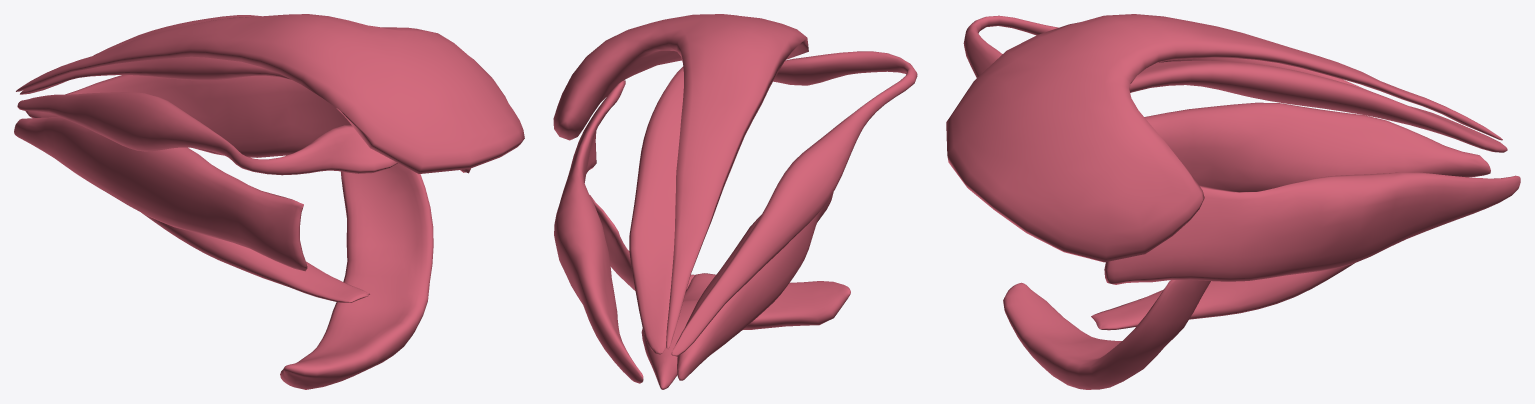
The model's file is VH_F_Muscles_Eye_L.fbx.
3 views of the same model, side by side, from view 1: azimuth 30°, elevation 25°; view 2: azimuth 150°, elevation 25°; view 3: azimuth 270°, elevation 25° (orthographic). The views are drawn at different scales.
Visible parts, largest first — view 1: VH_F_levator_palpebrae_superioris_L, VH_F_inferior_oblique_extraocular_muscle_L, VH_F_medial_rectus_extraocular_muscle_L, VH_F_superior_oblique_extraocular_muscle_L, VH_F_lateral_rectus_extraocular_muscle_L, VH_F_inferior_rectus_extraocular_muscle_L, VH_F_superior_rectus_extraocular_muscle_L; view 2: VH_F_levator_palpebrae_superioris_L, VH_F_superior_oblique_extraocular_muscle_L, VH_F_superior_rectus_extraocular_muscle_L, VH_F_lateral_rectus_extraocular_muscle_L, VH_F_medial_rectus_extraocular_muscle_L, VH_F_inferior_oblique_extraocular_muscle_L, VH_F_inferior_rectus_extraocular_muscle_L; view 3: VH_F_levator_palpebrae_superioris_L, VH_F_lateral_rectus_extraocular_muscle_L, VH_F_medial_rectus_extraocular_muscle_L, VH_F_inferior_oblique_extraocular_muscle_L, VH_F_superior_rectus_extraocular_muscle_L, VH_F_inferior_rectus_extraocular_muscle_L, VH_F_superior_oblique_extraocular_muscle_L.
Boxes of the visible parts, x1,y1,x2,y2 form: VH_F_levator_palpebrae_superioris_L: (16, 14, 524, 173); VH_F_inferior_oblique_extraocular_muscle_L: (280, 163, 433, 389); VH_F_medial_rectus_extraocular_muscle_L: (14, 116, 307, 271); VH_F_superior_oblique_extraocular_muscle_L: (17, 92, 397, 175); VH_F_lateral_rectus_extraocular_muscle_L: (25, 75, 470, 173); VH_F_inferior_rectus_extraocular_muscle_L: (141, 212, 369, 302); VH_F_superior_rectus_extraocular_muscle_L: (20, 15, 292, 94); VH_F_levator_palpebrae_superioris_L: (553, 14, 808, 349); VH_F_superior_oblique_extraocular_muscle_L: (671, 51, 917, 356); VH_F_superior_rectus_extraocular_muscle_L: (629, 66, 683, 354); VH_F_lateral_rectus_extraocular_muscle_L: (554, 80, 643, 383); VH_F_medial_rectus_extraocular_muscle_L: (677, 192, 833, 380); VH_F_inferior_oblique_extraocular_muscle_L: (589, 194, 850, 330); VH_F_inferior_rectus_extraocular_muscle_L: (641, 273, 715, 389); VH_F_levator_palpebrae_superioris_L: (946, 14, 1502, 262); VH_F_lateral_rectus_extraocular_muscle_L: (1104, 172, 1520, 284); VH_F_medial_rectus_extraocular_muscle_L: (1144, 102, 1490, 191); VH_F_inferior_oblique_extraocular_muscle_L: (1003, 280, 1210, 389); VH_F_superior_rectus_extraocular_muscle_L: (1129, 60, 1507, 152); VH_F_inferior_rectus_extraocular_muscle_L: (1091, 263, 1354, 330); VH_F_superior_oblique_extraocular_muscle_L: (963, 15, 1368, 90).
Size of the model in its own units: 3.67 by 3.58 by 5.45.
